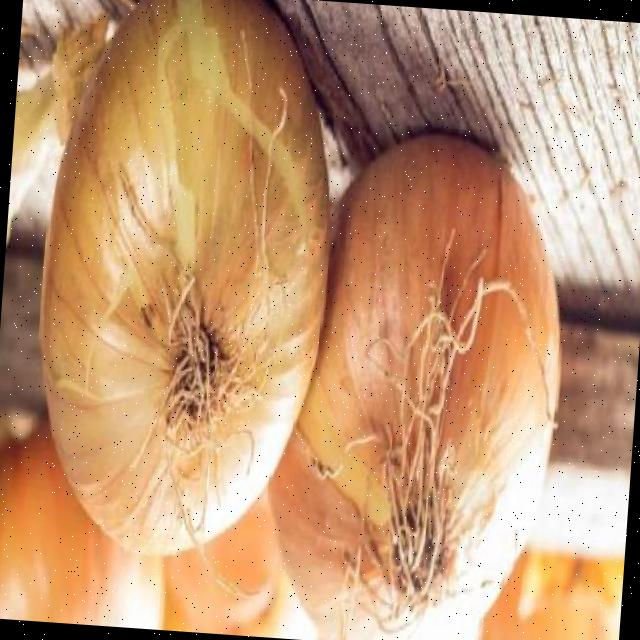Onion: (38, 0, 327, 554), (267, 133, 557, 640)
